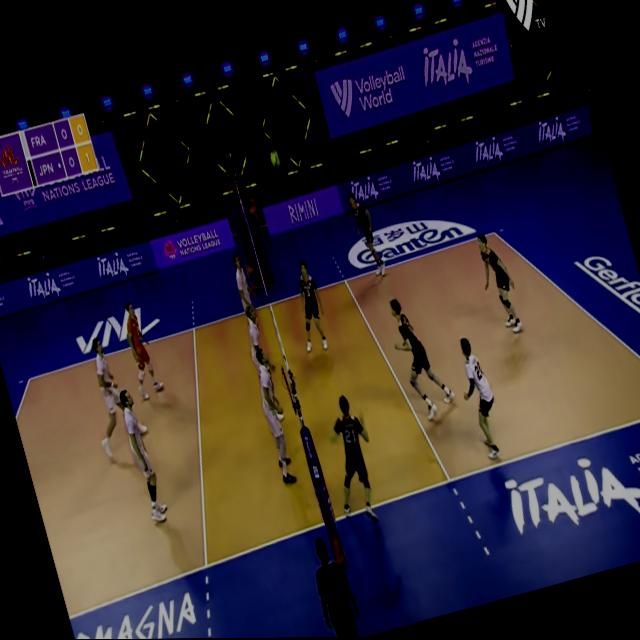player: (314, 389, 391, 528), (384, 289, 461, 426), (74, 331, 152, 459), (446, 322, 512, 468), (112, 381, 174, 525), (245, 346, 306, 492), (233, 300, 292, 428), (469, 226, 530, 343), (112, 291, 169, 406), (226, 245, 276, 353), (283, 256, 335, 358), (344, 183, 393, 285)
